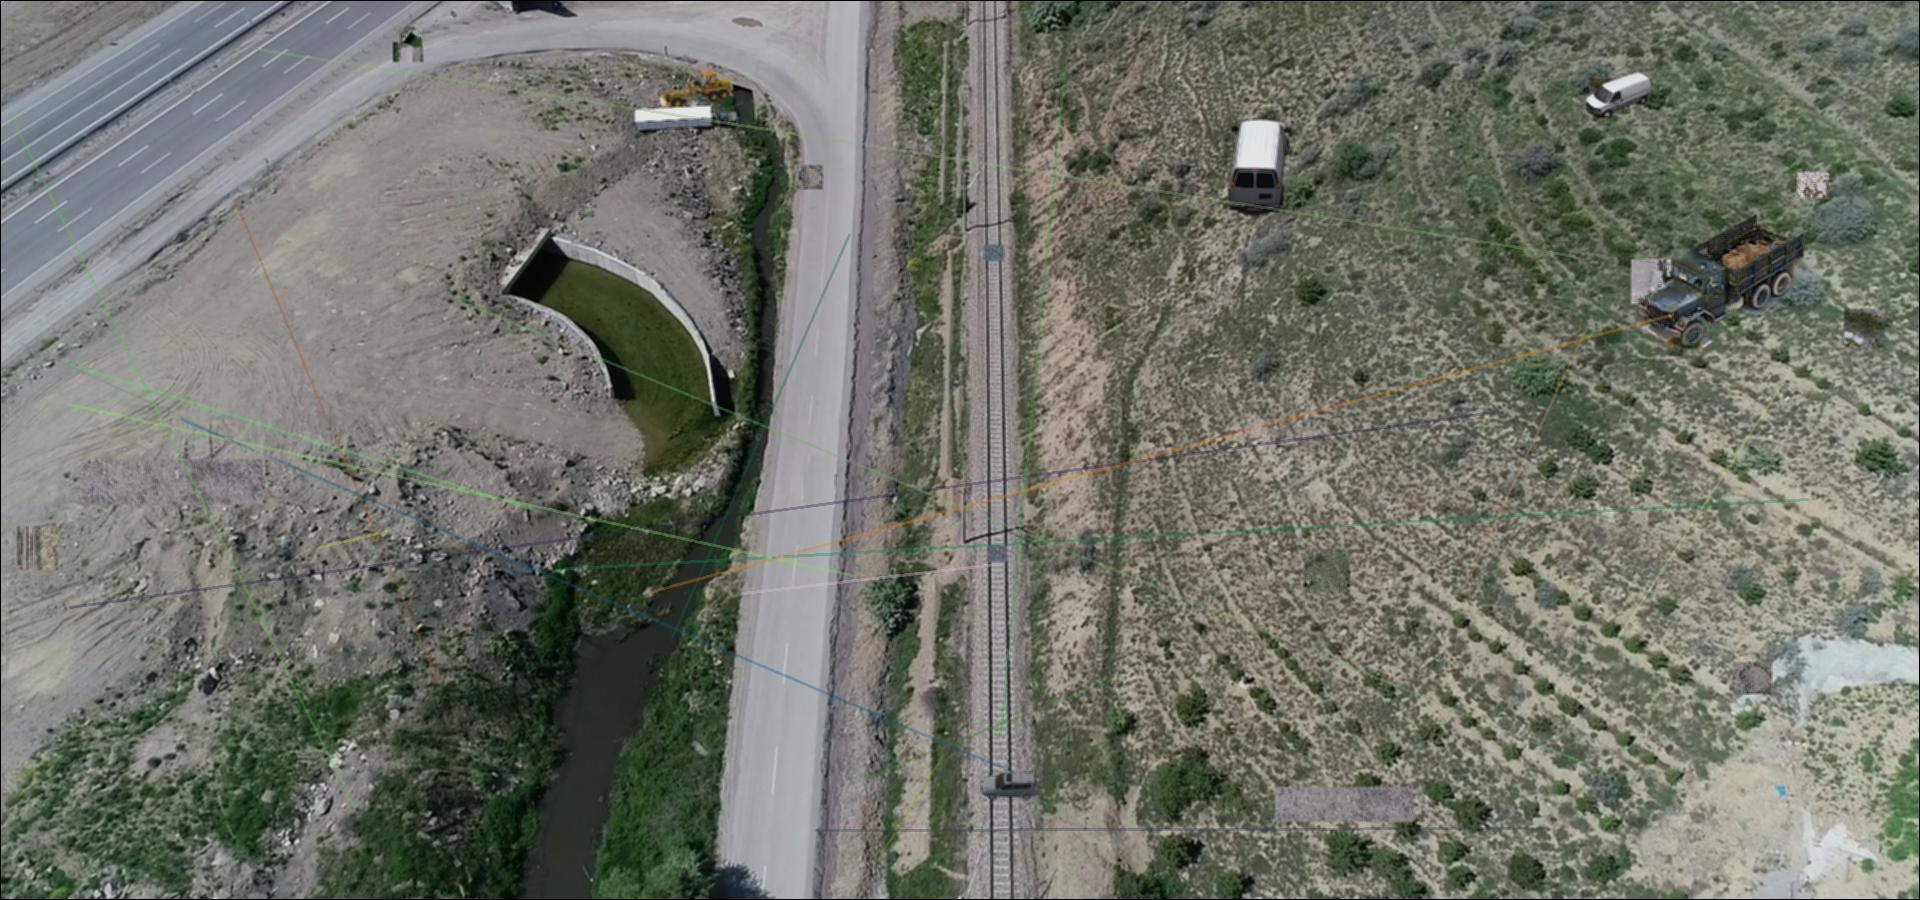arac: (1638, 211, 1805, 349), (1226, 116, 1291, 216), (658, 70, 735, 110), (632, 107, 741, 135), (1586, 72, 1653, 118), (980, 771, 1043, 801)
